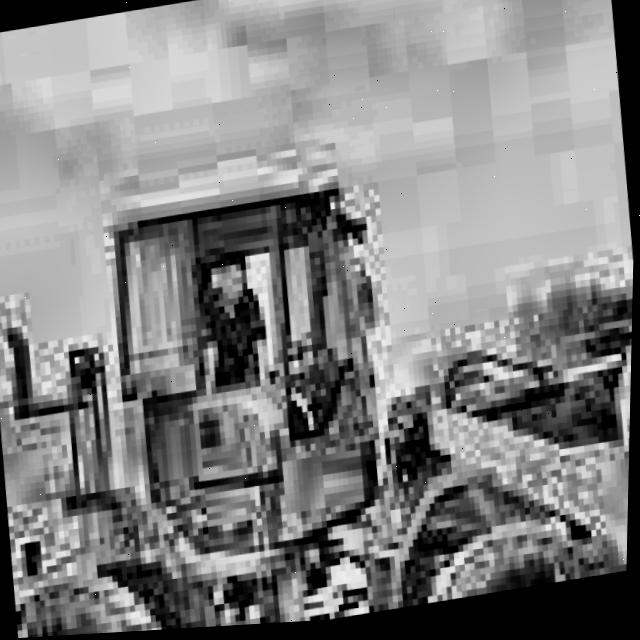buldozerpayloadergrader: (0, 115, 637, 640)
